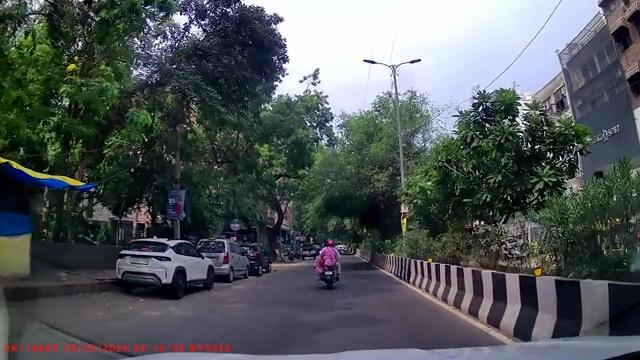passenger_with_helmet: (313, 238, 343, 289)
